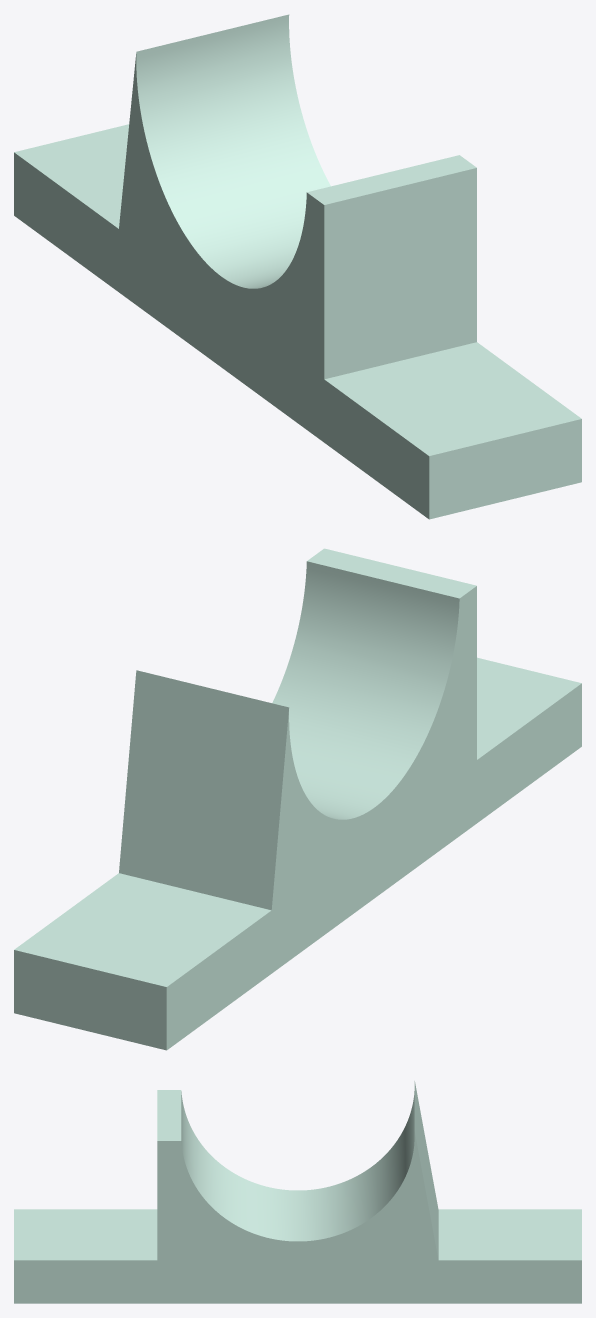
3 views of the same model, one above another, from view 1: azimuth 30°, elevation 25°; view 2: azimuth 150°, elevation 25°; view 3: azimuth 270°, elevation 25° (orthographic). The views are drawn at different scales.
Visible parts, largest first — view 1: Renderer Node; view 2: Renderer Node; view 3: Renderer Node.
Boxes of the visible parts, left/top/right/bottom form: Renderer Node: left=14, top=14, right=581, bottom=519; Renderer Node: left=14, top=548, right=581, bottom=1050; Renderer Node: left=14, top=1081, right=581, bottom=1303.
Bounding box in the file's own units: 0.2656 × 0.4211 × 1.25.
